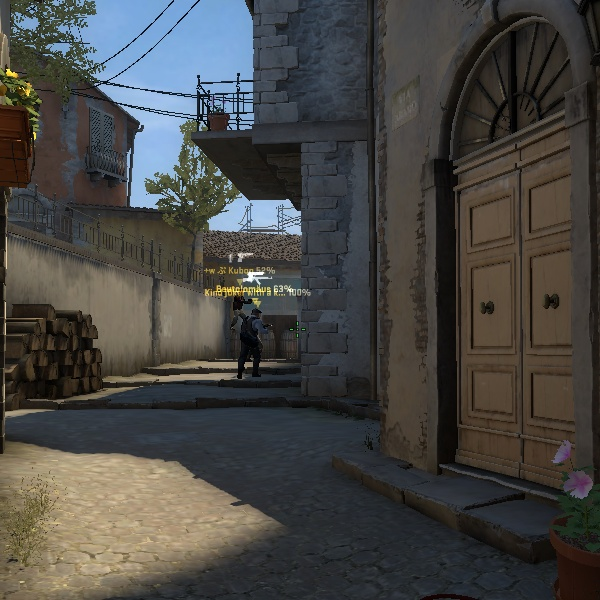t_body: (239, 309, 265, 378), (229, 289, 248, 330)
t_head: (251, 309, 262, 319)
